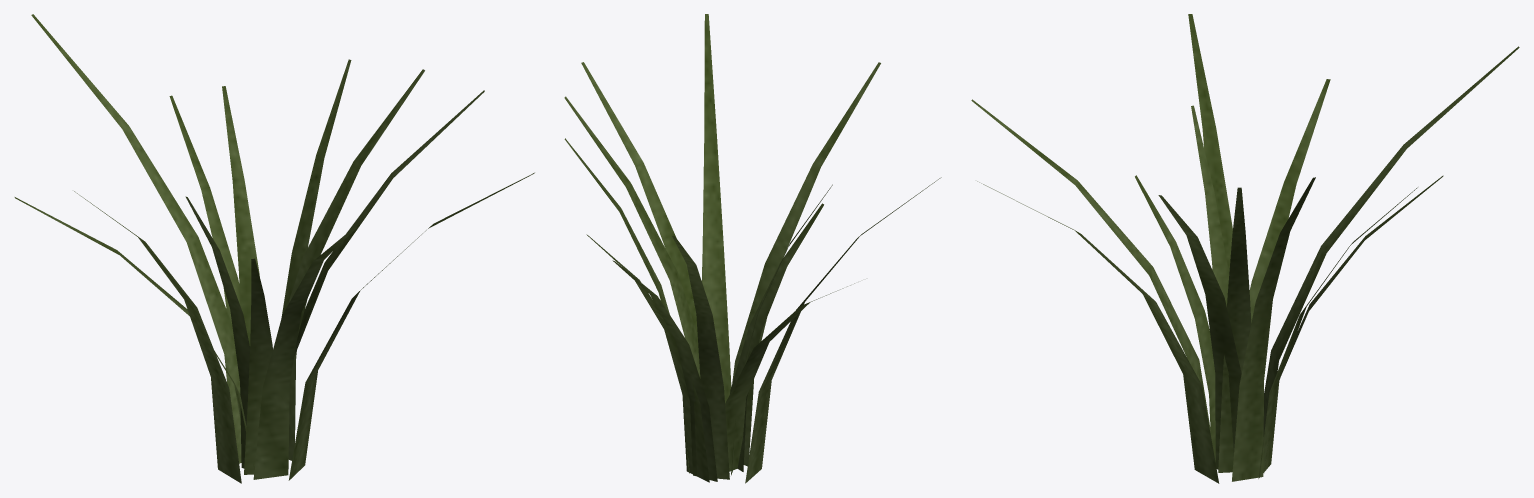
File: grass_tuft_4.glb
3 views of the same model, side by side, from view 1: azimuth 30°, elevation 25°; view 2: azimuth 150°, elevation 25°; view 3: azimuth 270°, elevation 25° (orthographic). The views are drawn at different scales.
Parts seen in each view (by area): view 1: grass_tuft_4; view 2: grass_tuft_4; view 3: grass_tuft_4.
Part boxes in pixels (x1=…): grass_tuft_4: x1=14, y1=14, x2=534, y2=483; grass_tuft_4: x1=564, y1=14, x2=941, y2=483; grass_tuft_4: x1=971, y1=14, x2=1519, y2=483.
Size of the model in its own units: 0.9086 by 0.8143 by 1.08.
Materials: 1 (1 with a texture image).
